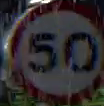Speed limit: (7, 2, 103, 103)
